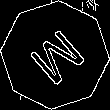M_SE: (21, 21, 89, 89)
